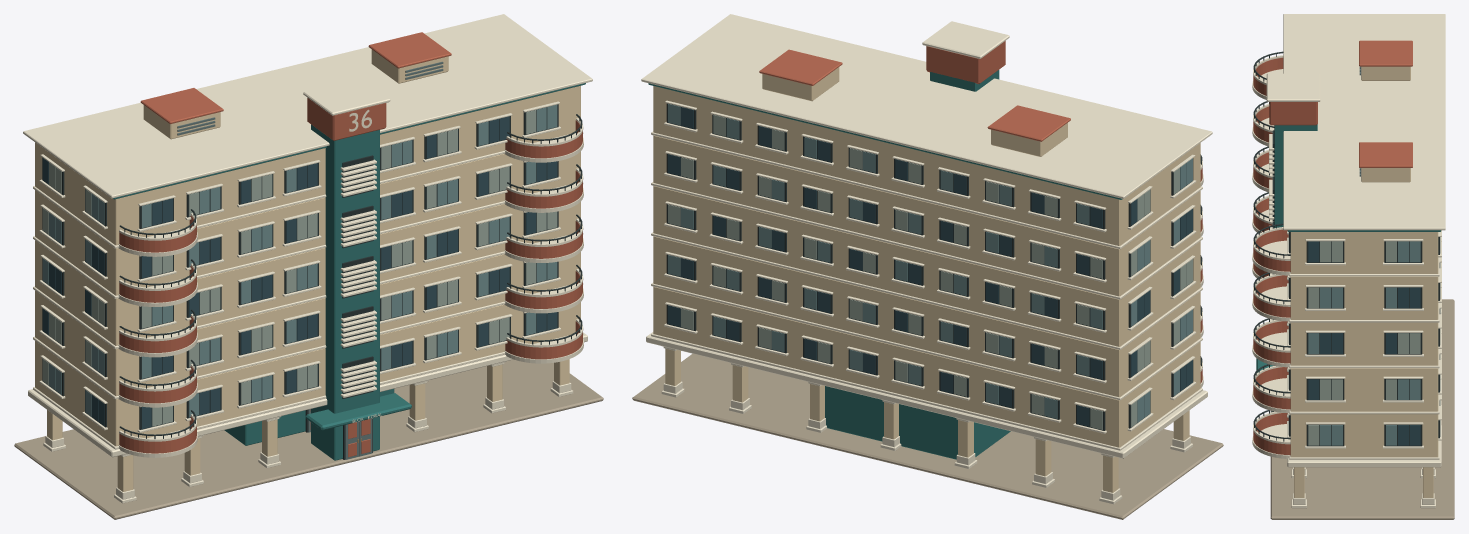
3 views of the same model, side by side, from view 1: azimuth 30°, elevation 25°; view 2: azimuth 150°, elevation 25°; view 3: azimuth 270°, elevation 25° (orthographic). The views are drawn at different scales.
Visible parts, largest first — view 1: Flats and void deck, Casements and sills, Lift lantern, Paired balcony drums, Roof services, Entrance joinery; view 2: Flats and void deck, Casements and sills, Roof services, Lift lantern; view 3: Flats and void deck, Casements and sills, Paired balcony drums, Lift lantern, Roof services.
Boxes of the visible parts, box(x1,y1,x2,y2) form: Flats and void deck: box(14, 14, 603, 519); Casements and sills: box(39, 101, 560, 432); Lift lantern: box(303, 78, 411, 460); Paired balcony drums: box(118, 114, 583, 457); Roof services: box(140, 32, 451, 139); Entrance joinery: box(305, 409, 372, 459); Flats and void deck: box(632, 14, 1223, 519); Casements and sills: box(664, 100, 1196, 433); Roof services: box(759, 49, 1070, 156); Lift lantern: box(922, 21, 1009, 91); Flats and void deck: box(1270, 14, 1454, 519); Casements and sills: box(1287, 230, 1441, 448); Paired balcony drums: box(1252, 51, 1290, 458); Lift lantern: box(1256, 73, 1320, 372); Roof services: box(1359, 40, 1412, 182).
Bounding box in the file's own units: 29.2 × 20.29 × 11.44.
